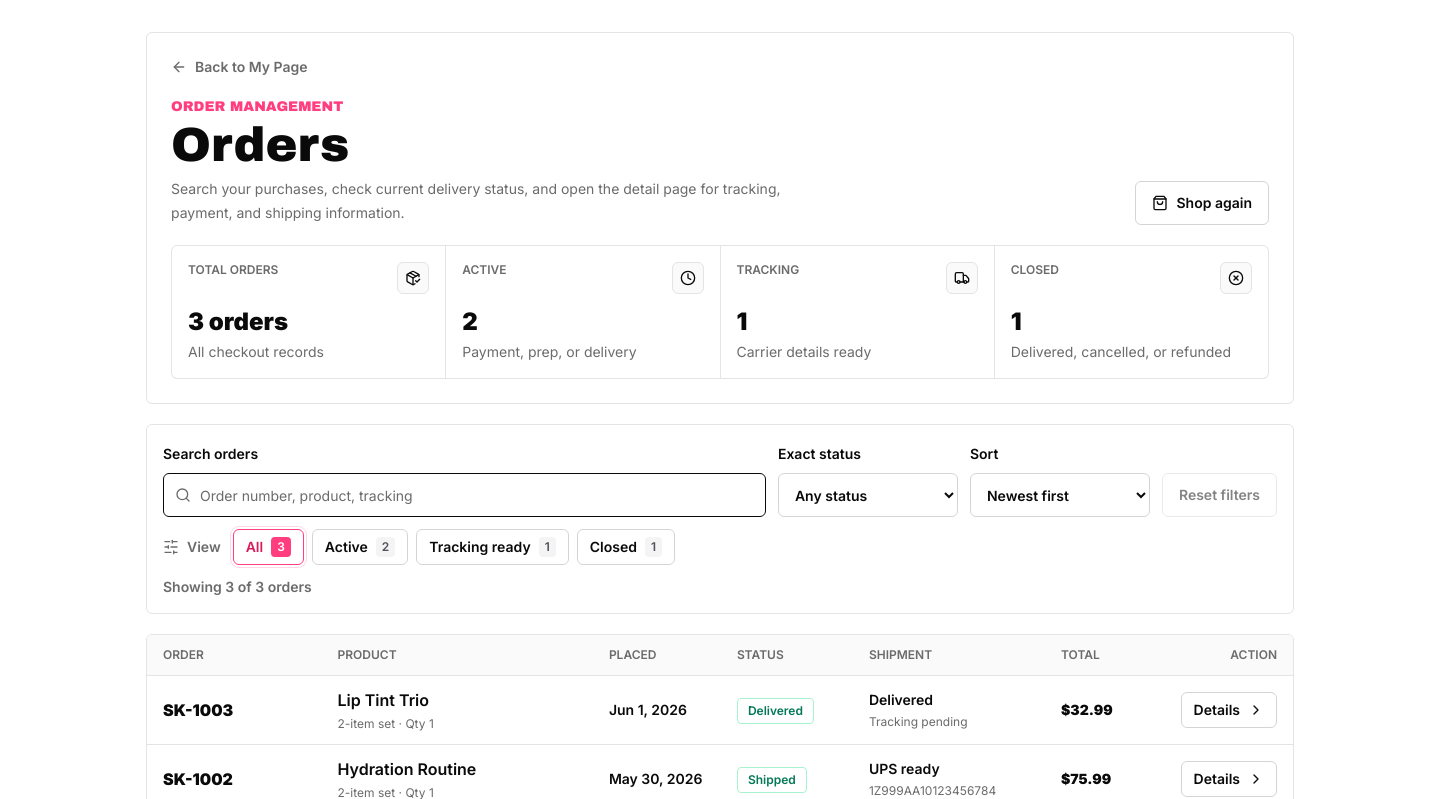
Test case: AccountOrdersClient › filters by search query and status, then restores results
The width and height of the screenshot is (1440, 799).
Type "hydration" into the field labelled "Search orders" at (464, 495), box [163,473,766,517]
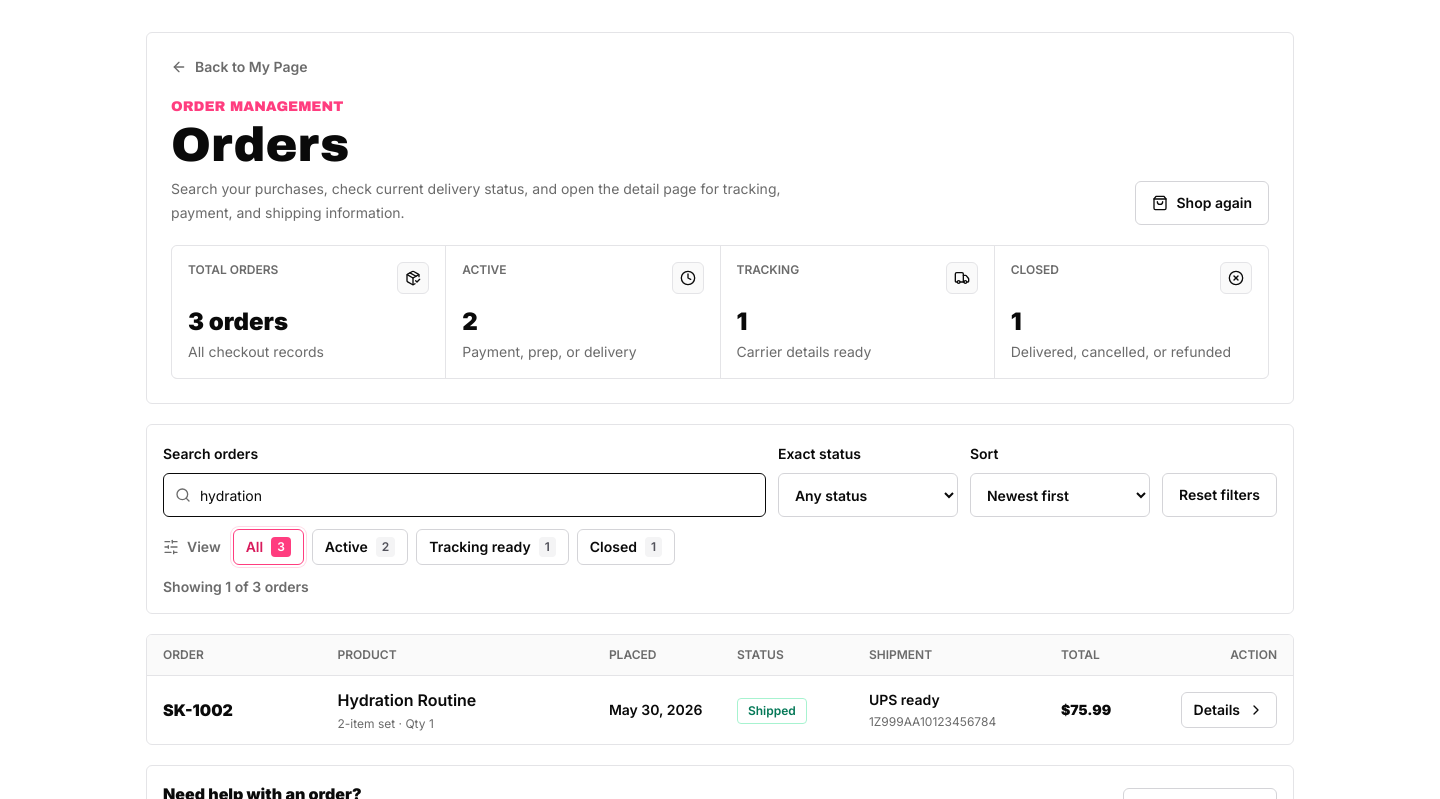
Expected: the text "Hydration Routine" is shown, [338,690,476,710]
Result: the message reads "Showing 1 of 3 orders" at [163,578,309,595]
Select "Delivered" in the dropdown labelled "Exact status" at (868, 495), box [778,473,958,517]
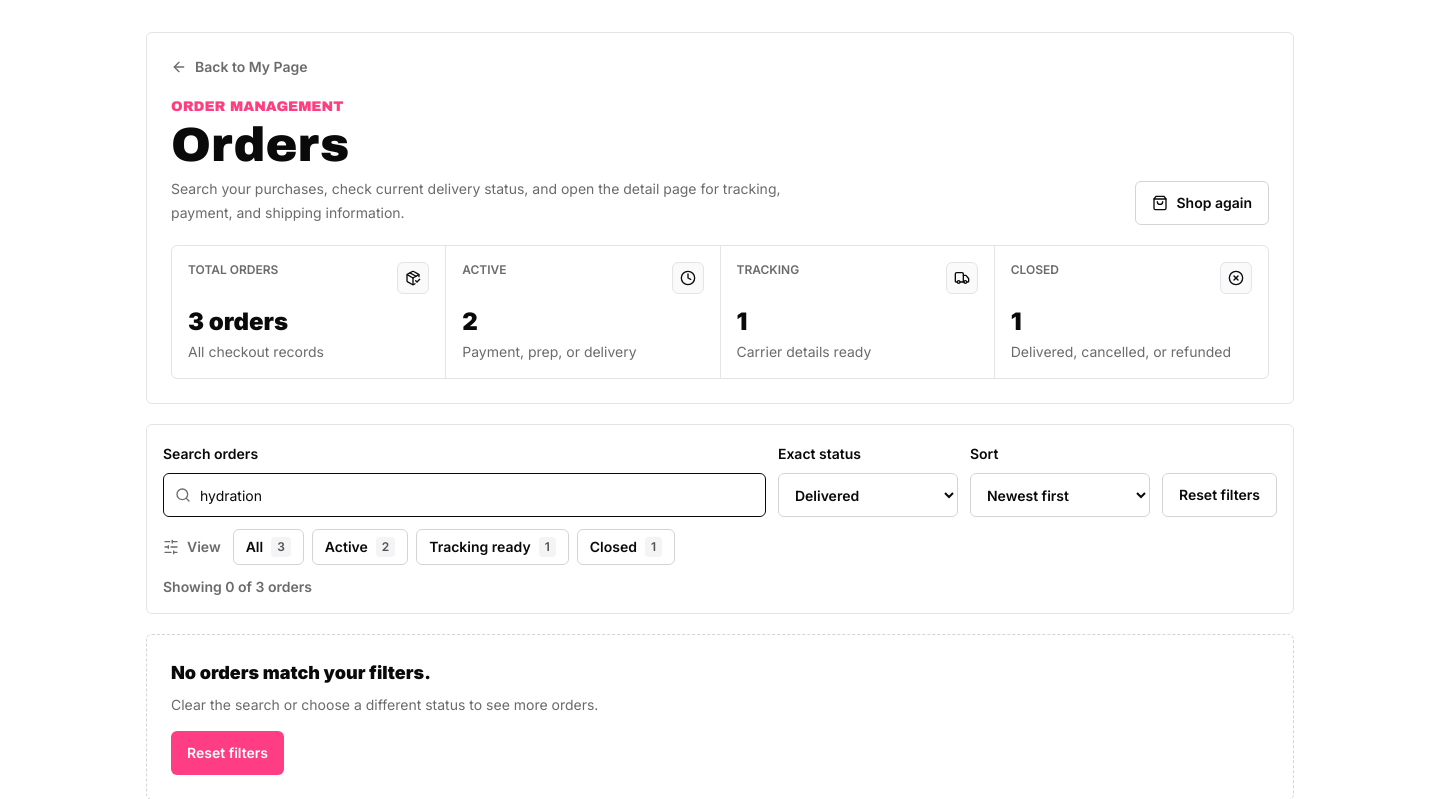
Result: the text "No orders match your filters." is shown at [171,662,431,683]
Click the button "Reset filters" below "No orders match your filters." at (228, 753), box [171,731,284,775]
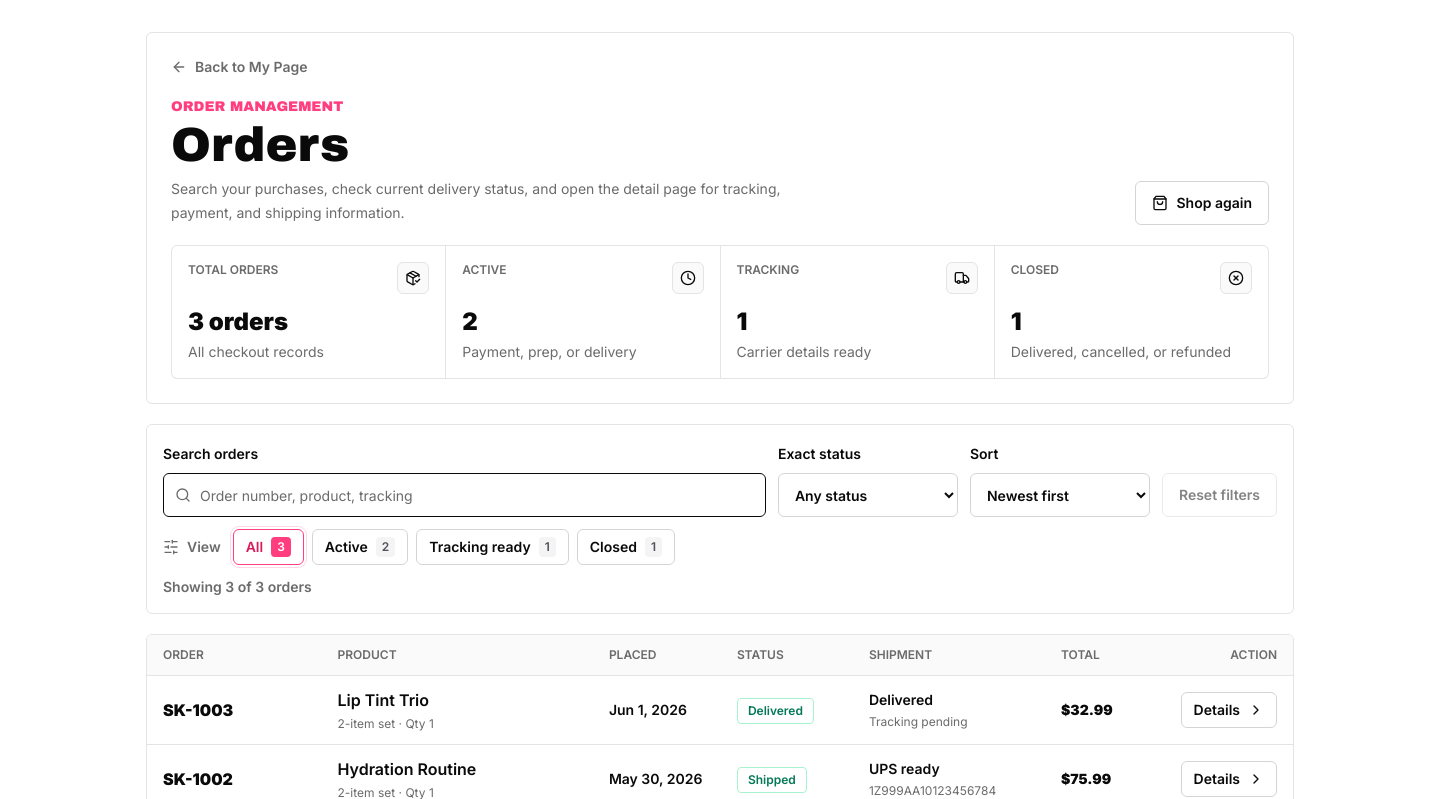
Result: the message reads "Showing 3 of 3 orders" at [163,578,312,595]
